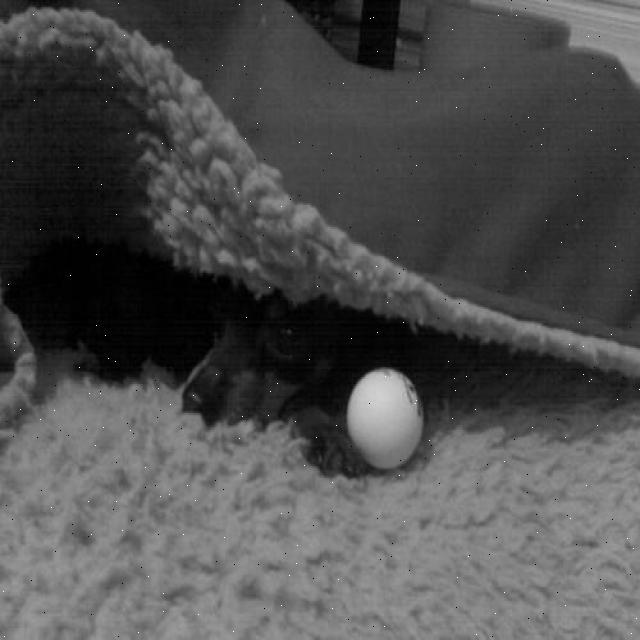ping-pong-ball: (347, 366, 425, 472)
